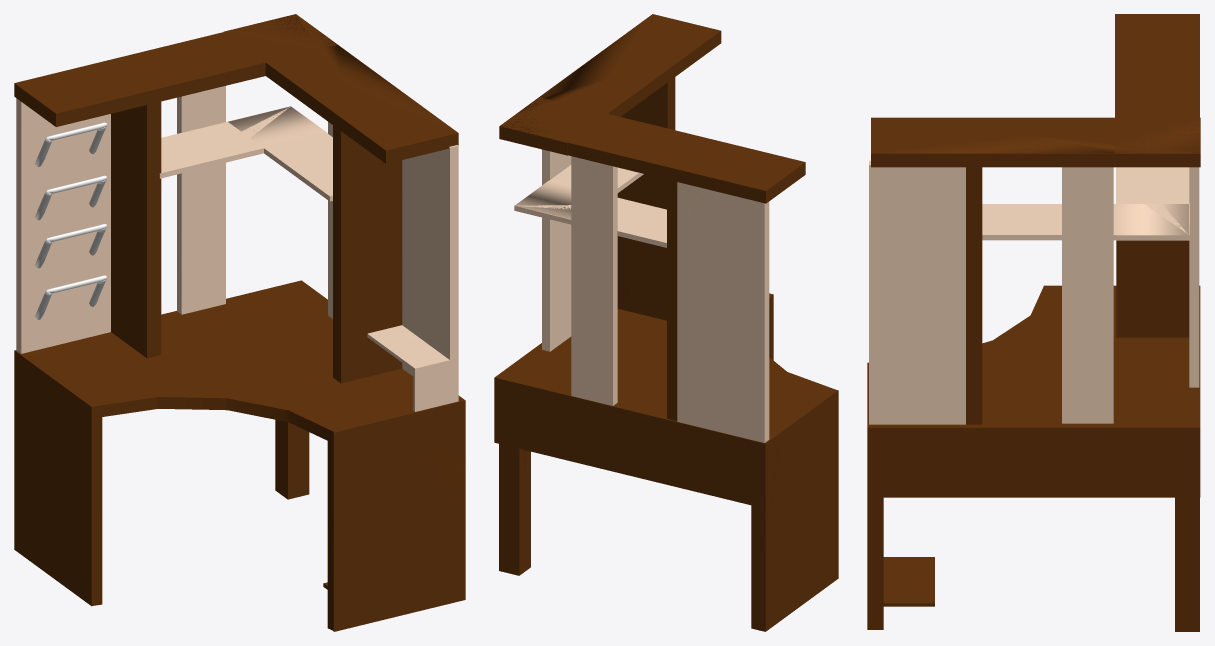
Rendered from scrivania.obj.
3 renders of one model, left to right at view 1: azimuth 30°, elevation 25°; view 2: azimuth 150°, elevation 25°; view 3: azimuth 270°, elevation 25°, orthographic. The views are drawn at different scales.
Bounding box in the file's own units: 327 × 512 × 324.
Materials: 4 (4 with a texture image).
